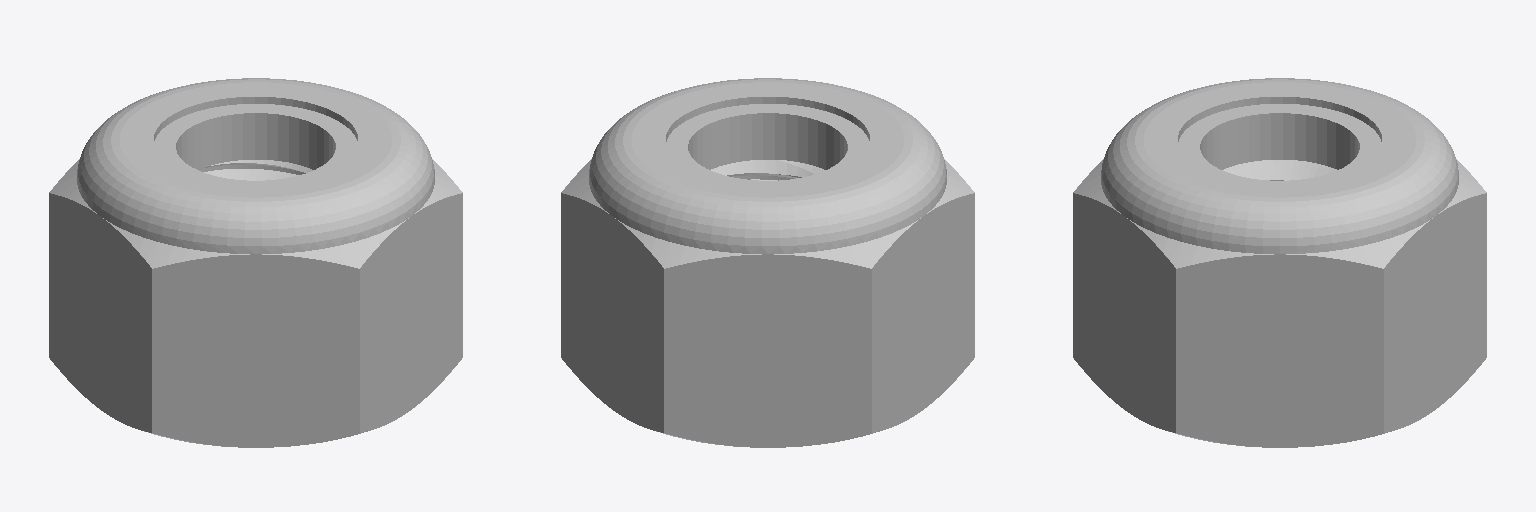
The model's file is M4nut.obj.
3 views of the same model, side by side, from view 1: azimuth 30°, elevation 25°; view 2: azimuth 150°, elevation 25°; view 3: azimuth 270°, elevation 25° (orthographic).
Visible parts, largest first — view 1: Body2, Body1; view 2: Body2, Body1; view 3: Body2, Body1.
Part boxes in pixels (left/top/right/bottom): Body2: left=49, top=78, right=462, bottom=447; Body1: left=154, top=104, right=357, bottom=182; Body2: left=561, top=78, right=974, bottom=447; Body1: left=666, top=104, right=869, bottom=182; Body2: left=1073, top=78, right=1486, bottom=447; Body1: left=1178, top=104, right=1381, bottom=182.
Bounding box in the file's own units: 0.7 × 0.5 × 0.8083.